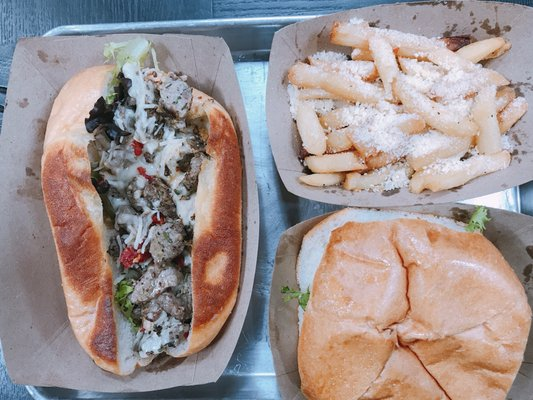soup: (272, 211, 532, 400), (282, 18, 529, 197)
